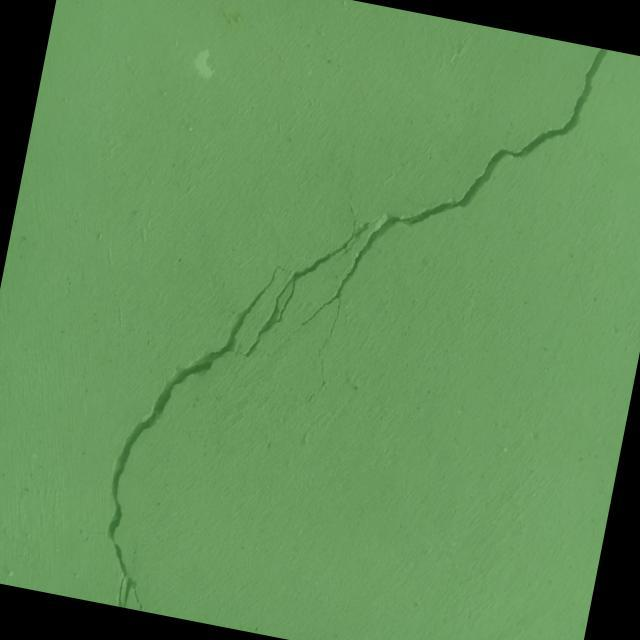crack: (76, 170, 385, 640), (291, 2, 609, 400), (305, 357, 330, 406)
